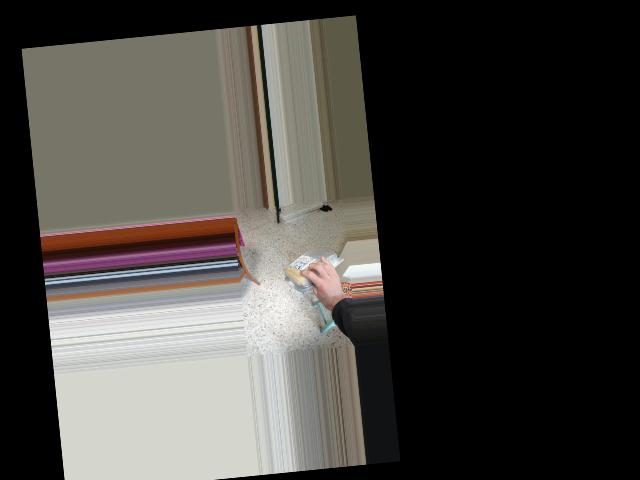cheese: (276, 250, 341, 285)
